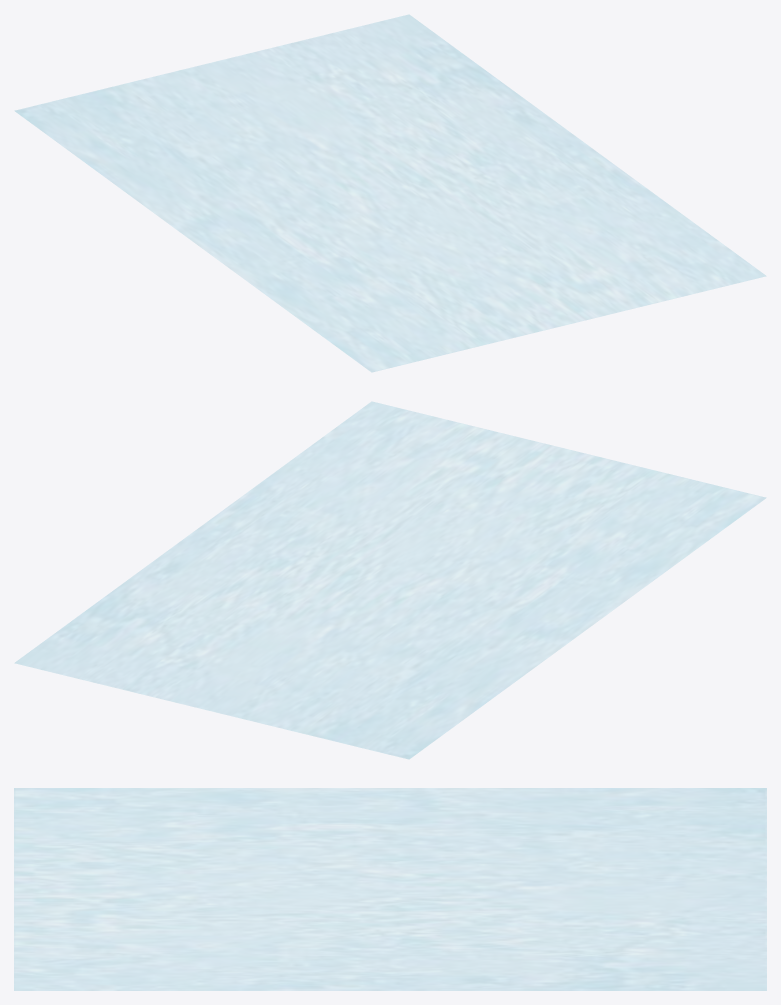
The model's file is agua.obj.
3 views of the same model, one above another, from view 1: azimuth 30°, elevation 25°; view 2: azimuth 150°, elevation 25°; view 3: azimuth 270°, elevation 25° (orthographic). The views are drawn at different scales.
Visible parts, largest first — view 1: Agua; view 2: Agua; view 3: Agua.
Boxes of the visible parts, bbox=[...] form: Agua: bbox=[15, 15, 765, 371]; Agua: bbox=[15, 402, 765, 758]; Agua: bbox=[14, 788, 766, 990].
Bounding box in the file's own units: 3.82 × 0 × 5.99.
Materials: 1 (1 with a texture image).
